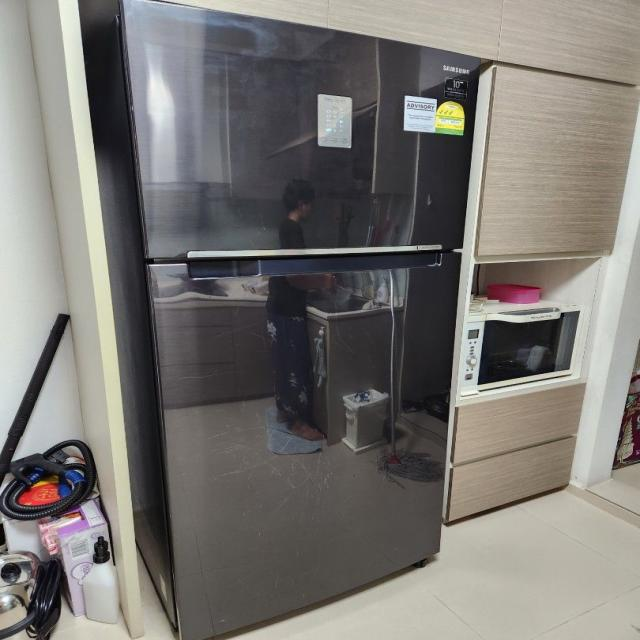refrigerator: (119, 0, 478, 640)
